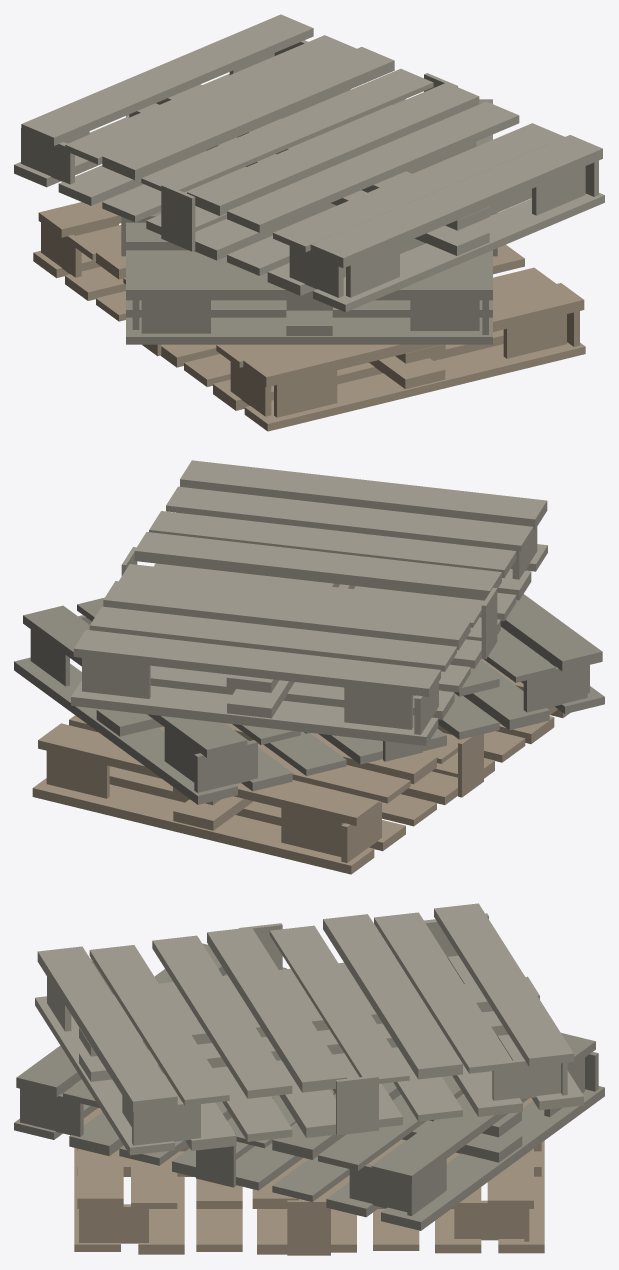
Rendered from Wooden_Palette_Stack.fbx.
3 renders of one model, top to bottom at view 1: azimuth 30°, elevation 25°; view 2: azimuth 150°, elevation 25°; view 3: azimuth 270°, elevation 25°, orthographic.
Visible parts, largest first — view 1: pCube35, pCube33, pCube34; view 2: pCube35, pCube33, pCube34; view 3: pCube35, pCube34, pCube33.
Part boxes in pixels (x1,y1,x2,y2): pCube35: (14, 14, 604, 312); pCube33: (33, 193, 585, 431); pCube34: (121, 99, 497, 344); pCube35: (71, 460, 547, 745); pCube33: (32, 658, 569, 874); pCube34: (14, 594, 604, 804); pCube35: (35, 903, 583, 1155); pCube34: (14, 943, 604, 1230); pCube33: (74, 1094, 544, 1255).
Bounding box in the file's own units: 1.18 × 0.4121 × 1.26.
